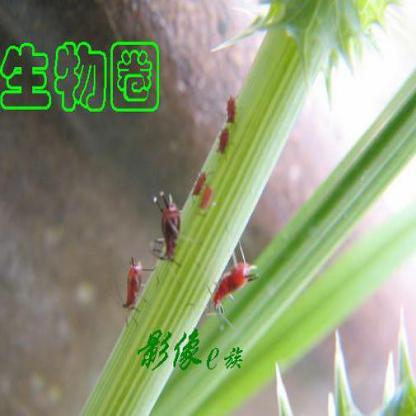aphid: (201, 235, 264, 321), (145, 186, 192, 264), (116, 256, 156, 327), (218, 89, 245, 137), (212, 124, 235, 160), (185, 168, 210, 200), (194, 184, 219, 212)
